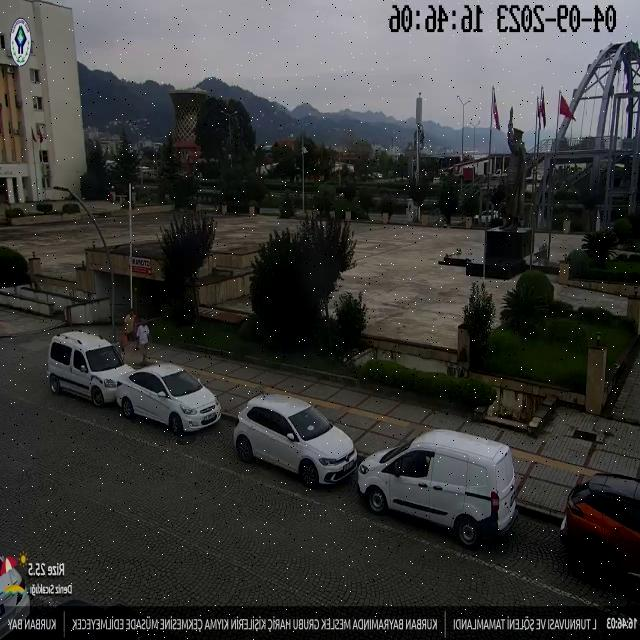Car: (233, 386, 348, 487), (553, 459, 640, 579), (119, 364, 224, 441), (41, 326, 130, 415)
Van: (350, 434, 539, 538)
